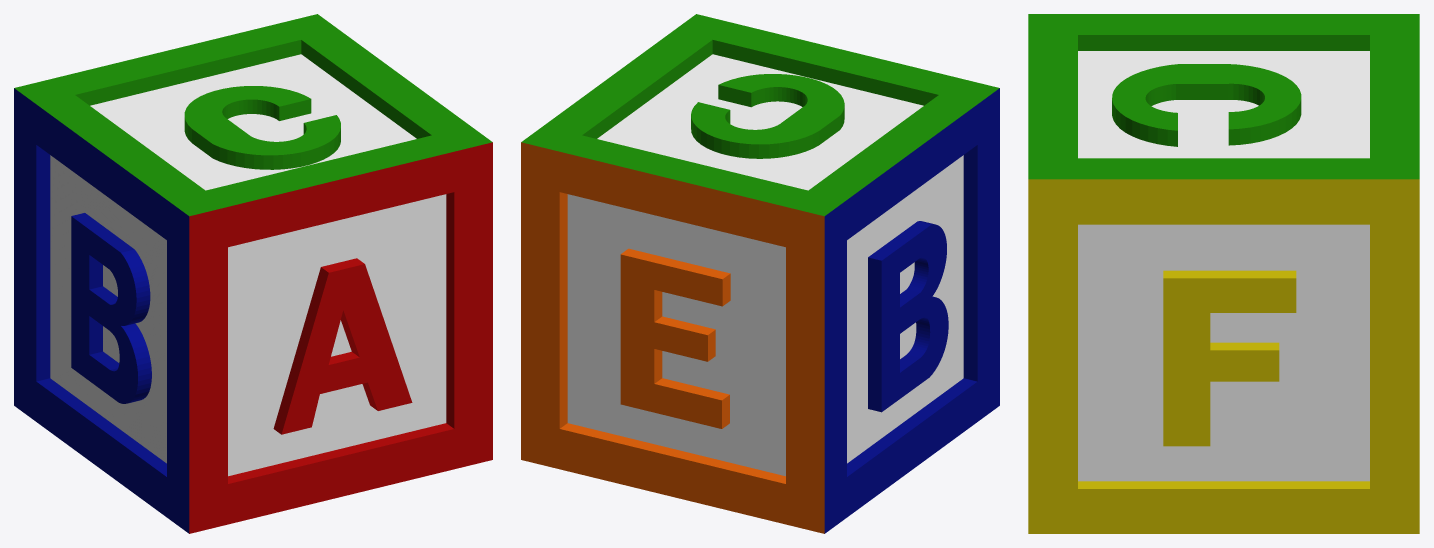
3 renders of one model, left to right at view 1: azimuth 30°, elevation 25°; view 2: azimuth 150°, elevation 25°; view 3: azimuth 270°, elevation 25°, orthographic. The views are drawn at different scales.
Parts seen in each view (by area): view 1: 큐브; view 2: 큐브; view 3: 큐브.
Part boxes in pixels (x1=…): 큐브: x1=14, y1=14, x2=492, y2=533; 큐브: x1=521, y1=14, x2=999, y2=533; 큐브: x1=1028, y1=14, x2=1419, y2=533.
Bounding box in the file's own units: 1100 × 1100 × 1100.
